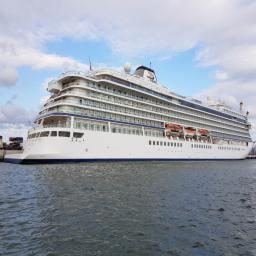cruises: (5, 62, 256, 168)
